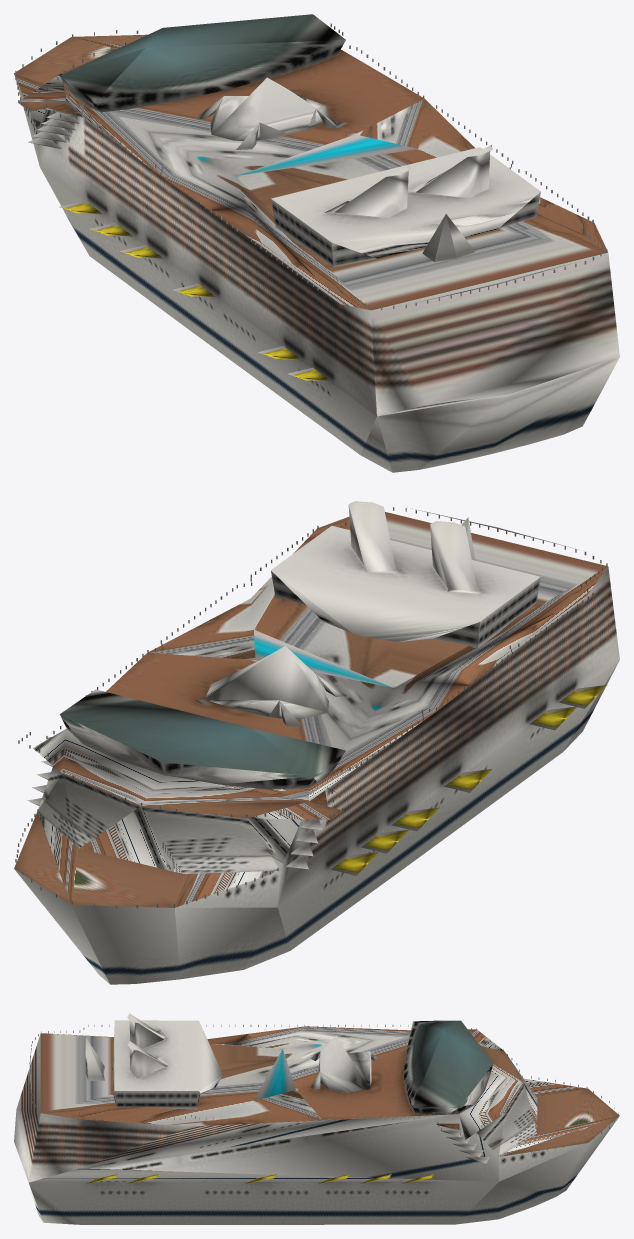
Rendered from mare-mansa-low.v1.glb.
The picture shows the model from 3 angles, top to bottom: view 1: azimuth 30°, elevation 25°; view 2: azimuth 150°, elevation 25°; view 3: azimuth 270°, elevation 25°; orthographic projection. The views are drawn at different scales.
Parts seen in each view (by area): view 1: Maré Mansa; view 2: Maré Mansa; view 3: Maré Mansa.
Part boxes in pixels (x1,y1,x2,y2): Maré Mansa: (14, 14, 619, 472); Maré Mansa: (14, 501, 619, 984); Maré Mansa: (14, 1013, 619, 1224).
Bounding box in the file's own units: 2.65 × 1.91 × 6.4.
1 material, 1 textured.
